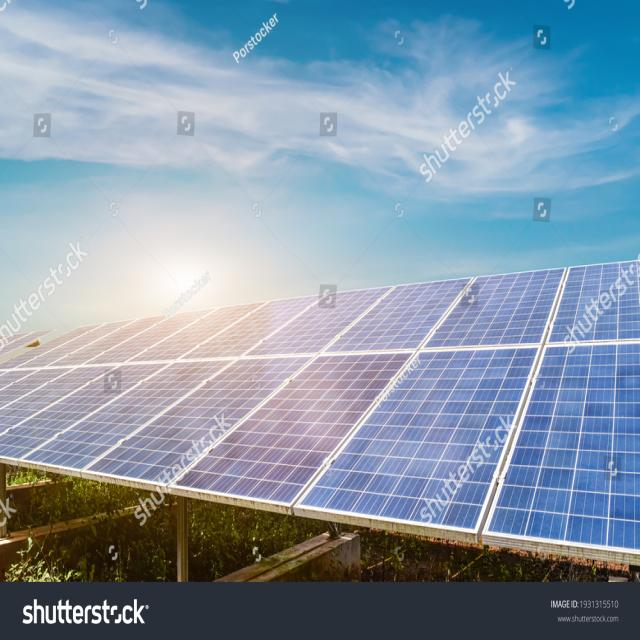clean-solar-panel: (484, 344, 640, 565)
